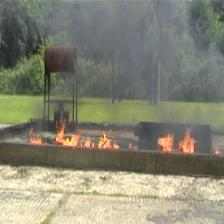fire: (56, 120, 120, 148), (157, 128, 174, 152), (179, 128, 195, 152)
